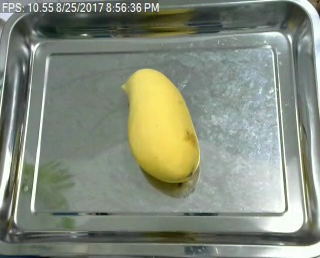Mango: (122, 68, 205, 185)
